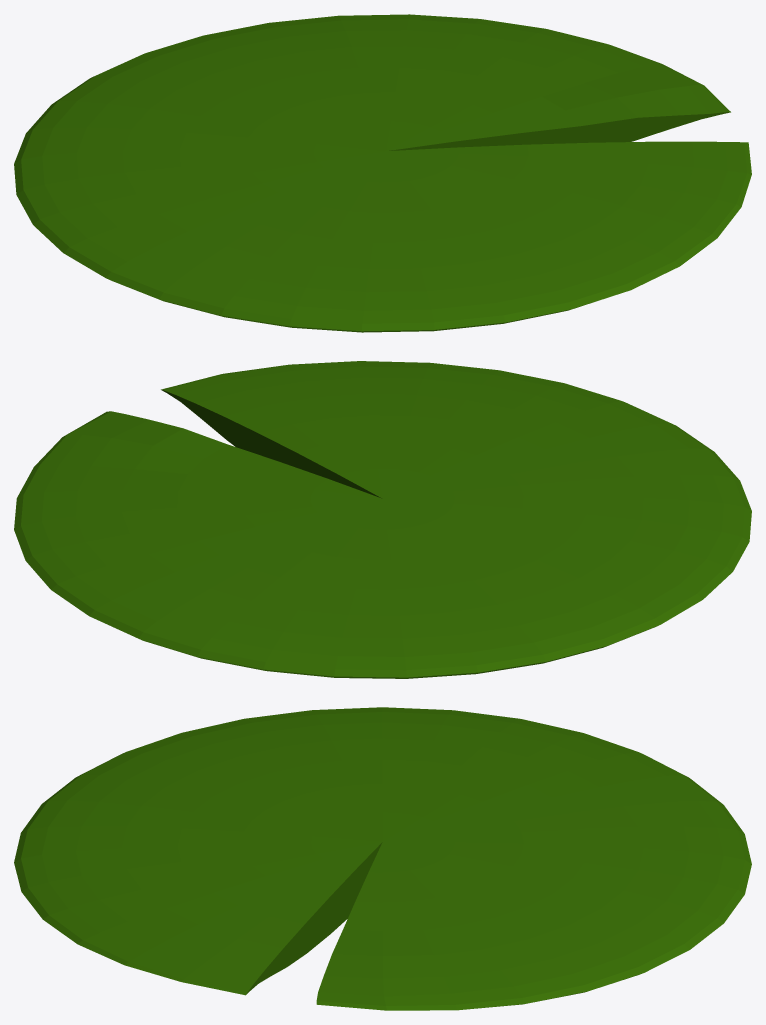
File: nilufer.fbx
3 views of the same model, one above another, from view 1: azimuth 30°, elevation 25°; view 2: azimuth 150°, elevation 25°; view 3: azimuth 270°, elevation 25° (orthographic).
Visible parts, largest first — view 1: Sphere; view 2: Sphere; view 3: Sphere.
Boxes of the visible parts, bbox=[...] form: Sphere: bbox=[14, 14, 751, 332]; Sphere: bbox=[14, 361, 751, 678]; Sphere: bbox=[14, 707, 751, 1010].
Size of the model in its own units: 2953 by 194 by 2964.
